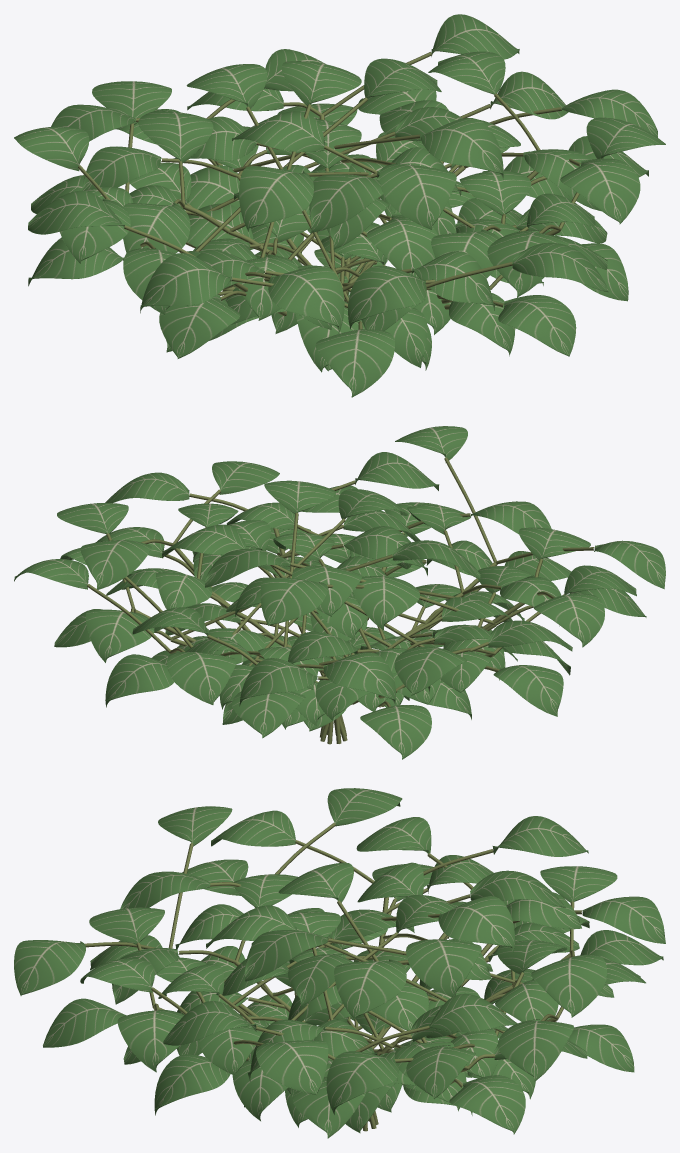
Rendered from fittonia-stage-7.glb.
The picture shows the model from 3 angles, top to bottom: view 1: azimuth 30°, elevation 25°; view 2: azimuth 150°, elevation 25°; view 3: azimuth 270°, elevation 25°; orthographic projection. The views are drawn at different scales.
Parts seen in each view (by area): view 1: PlantBranches, Leaf_71, Leaf_73, Leaf_82, Leaf_100, Leaf_103, Leaf_89, Leaf_85, Leaf_75, Leaf_64, Leaf_69, Leaf_80 (+59 smaller); view 2: PlantBranches, Leaf_92, Leaf_83, Leaf_76, Leaf_88, Leaf_65, Leaf_94, Leaf_90, Leaf_101, Leaf_72, Leaf_78, Leaf_99 (+58 smaller); view 3: PlantBranches, Leaf_77, Leaf_86, Leaf_95, Leaf_79, Leaf_93, Leaf_102, Leaf_81, Leaf_91, Leaf_70, Leaf_66, Leaf_84 (+54 smaller).
Boxes of the visible parts, box(x1,y1,x2,y2) form: PlantBranches: box(78, 52, 600, 329); Leaf_71: box(239, 166, 313, 231); Leaf_73: box(379, 163, 456, 230); Leaf_82: box(315, 329, 394, 397); Leaf_100: box(268, 266, 344, 333); Leaf_103: box(140, 253, 231, 313); Leaf_89: box(560, 158, 640, 224); Leaf_85: box(348, 265, 426, 329); Leaf_75: box(421, 118, 503, 179); Leaf_64: box(498, 295, 576, 356); Leaf_69: box(309, 174, 383, 232); Leaf_80: box(159, 294, 240, 358); PlantBranches: box(87, 457, 594, 744); Leaf_92: box(167, 652, 236, 704); Leaf_83: box(260, 577, 328, 625); Leaf_76: box(360, 705, 431, 759); Leaf_88: box(80, 540, 151, 589); Leaf_65: box(352, 576, 419, 630); Leaf_94: box(323, 652, 395, 705); Leaf_90: box(85, 609, 154, 662); Leaf_101: box(534, 593, 604, 647); Leaf_72: box(105, 654, 174, 707); Leaf_78: box(493, 665, 563, 716); Leaf_99: box(394, 646, 467, 695); PlantBranches: box(84, 822, 582, 1131); Leaf_77: box(334, 959, 406, 1019); Leaf_86: box(256, 1040, 328, 1095); Leaf_95: box(531, 954, 607, 1017); Leaf_79: box(406, 939, 481, 996); Leaf_93: box(497, 1019, 574, 1081); Leaf_102: box(14, 940, 85, 995); Leaf_81: box(438, 896, 514, 953); Leaf_91: box(326, 1051, 399, 1114); Leaf_70: box(449, 1075, 525, 1134); Leaf_66: box(154, 1054, 230, 1115); Leaf_84: box(117, 1009, 183, 1072).
Bounding box in the file's own units: 3.03 × 1.18 × 2.97.
Materials: 2 (1 with a texture image).
